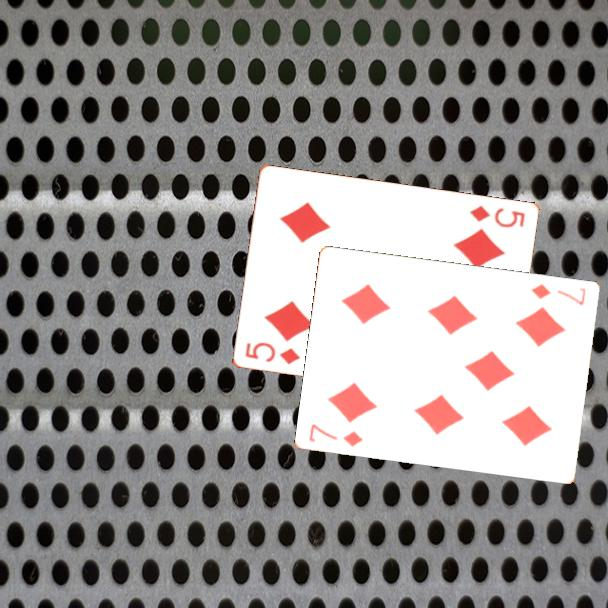d05: (241, 339, 303, 368), (466, 202, 527, 231)
d07: (306, 420, 366, 450), (528, 280, 589, 308)
